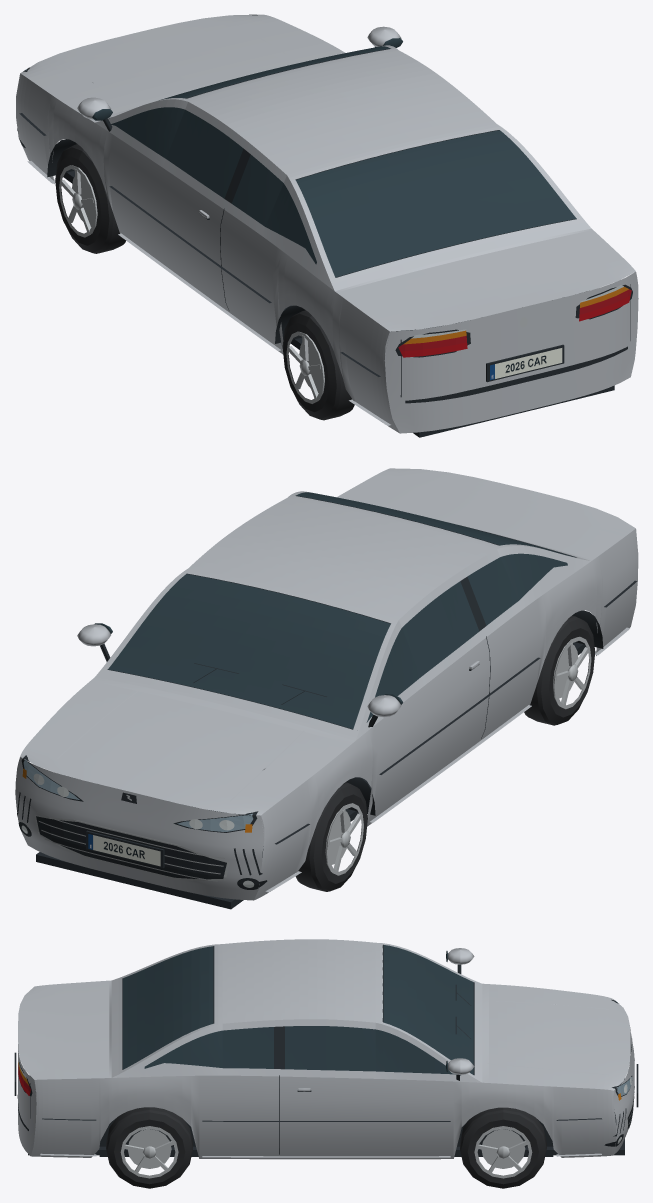
Rendered from Entrega_7_LOD1.glb.
The picture shows the model from 3 angles, top to bottom: view 1: azimuth 30°, elevation 25°; view 2: azimuth 150°, elevation 25°; view 3: azimuth 270°, elevation 25°; orthographic projection. The views are drawn at different scales.
Visible parts, largest first — view 1: Body, Glass, Wheel_RL, Wheel_FL, Plates, BrakeLights, TailLights; view 2: Body, Glass, Wheel_FL, Wheel_RL, Headlights, Plates; view 3: Body, Glass, Wheel_RR, Wheel_FR.
Part boxes in pixels (box(x1,y1,x2,y2)): Body: box(16, 14, 638, 437); Glass: box(92, 38, 576, 277); Wheel_RL: box(282, 310, 354, 420); Wheel_FL: box(55, 144, 125, 253); Plates: box(490, 348, 562, 380); BrakeLights: box(398, 289, 631, 351); TailLights: box(400, 295, 630, 357); Body: box(15, 468, 638, 909); Glass: box(94, 492, 574, 728); Wheel_FL: box(295, 782, 367, 891); Wheel_RL: box(524, 615, 595, 725); Headlights: box(21, 759, 254, 887); Plates: box(88, 834, 160, 866); Body: box(14, 939, 638, 1159); Glass: box(123, 945, 473, 1075); Wheel_RR: box(106, 1107, 192, 1188); Wheel_FR: box(460, 1107, 546, 1188).
Size of the model in its own units: 2.21 by 1.4 by 4.82.
14 materials, 1 textured.
